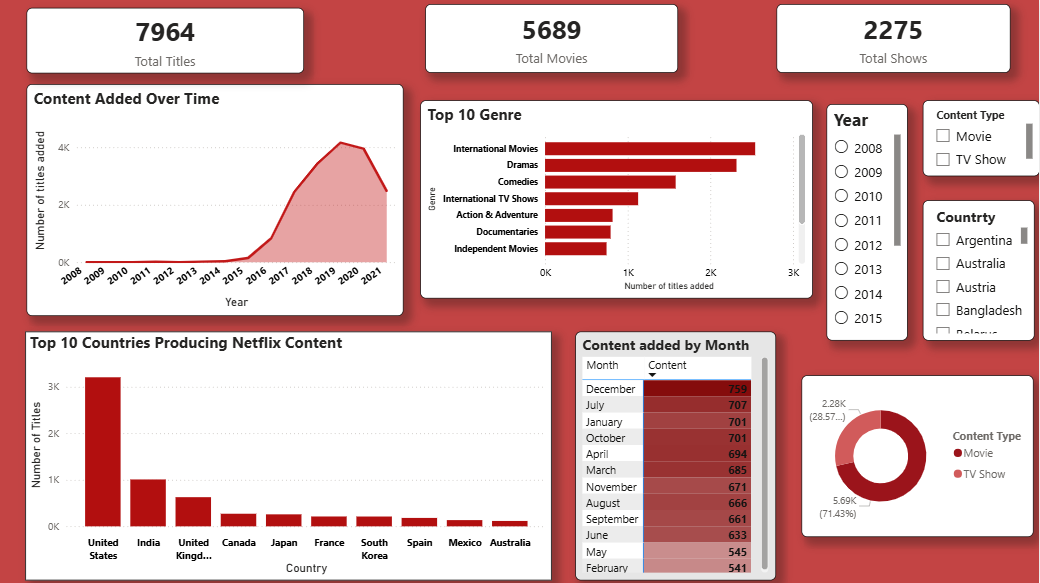

The page's visual inventory and layout, read from the dashboard file:
{"tool":"powerbi","page":{"name":"Page 1","canvas":[1280,720],"ordinal":0},"visuals":[{"type":"card","fields":{"Values":["netflix_titles.Total Shows"]},"box":[956.4,6.9,288.2,85.1],"z":0},{"type":"card","fields":{"Values":["netflix_titles.Total Movies"]},"box":[524.2,6.9,311.5,85.1],"z":1000},{"type":"stackedAreaChart","title":"Content Added Over Time","fields":{"Category":["netflix_titles.CustomYear Added"],"Y":["CountNonNull(netflix_titles.show_id)"]},"box":[34.3,104.3,463.8,285.4],"z":2000},{"type":"clusteredColumnChart","title":"Top 10 Countries Producing Netflix Content","fields":{"Category":["netflix_titles.country.1"],"Y":["Count(netflix_titles.show_id)"]},"box":[32.9,408.9,647.7,306],"z":3000},{"type":"donutChart","title":"Movies vs TV Shows","fields":{"Y":["Count(netflix_titles.show_id)"],"Category":["netflix_titles.type"]},"box":[988,462.4,285.4,199],"z":4000},{"type":"pivotTable","title":"Content added by Month","fields":{"Rows":["netflix_titles.Month"],"Values":["Count(netflix_titles.show_id)"]},"box":[709.4,408.9,247,306],"z":5000},{"type":"barChart","title":"Top 10 Genre","fields":{"Category":["netflix_titles.listed_in"],"Y":["Count(netflix_titles.show_id)"]},"box":[518.7,124.9,483,244.3],"z":6000},{"type":"slicer","fields":{"Values":["netflix_titles.type"]},"box":[1136.2,124.9,144.1,93.3],"z":7000},{"type":"listSlicer","fields":{"Values":["netflix_titles.year"]},"box":[1018.2,129,100.2,290.9],"z":8000},{"type":"slicer","fields":{"Values":["netflix_titles.country.1"]},"box":[1136.2,247,137.2,172.9],"z":9000},{"type":"card","fields":{"Values":["netflix_titles.Total Titles"]},"box":[34.3,11,341.7,81],"z":10000}]}

Visuals, with their boxes in screenshot pixels (x1, y1, x2, y2), scaled from the page's 1280x720 canvas onto the 1040x583 screenshot:
card - netflix_titles.Total Shows: {"left": 777, "top": 6, "right": 1011, "bottom": 74}
card - netflix_titles.Total Movies: {"left": 426, "top": 6, "right": 679, "bottom": 74}
"Content Added Over Time" stackedAreaChart: {"left": 28, "top": 84, "right": 405, "bottom": 316}
"Top 10 Countries Producing Netflix Content" clusteredColumnChart: {"left": 27, "top": 331, "right": 553, "bottom": 579}
"Movies vs TV Shows" donutChart: {"left": 803, "top": 374, "right": 1035, "bottom": 536}
"Content added by Month" pivotTable: {"left": 576, "top": 331, "right": 777, "bottom": 579}
"Top 10 Genre" barChart: {"left": 421, "top": 101, "right": 814, "bottom": 299}
slicer - netflix_titles.type: {"left": 923, "top": 101, "right": 1039, "bottom": 177}
listSlicer - netflix_titles.year: {"left": 827, "top": 104, "right": 909, "bottom": 340}
slicer - netflix_titles.country.1: {"left": 923, "top": 200, "right": 1035, "bottom": 340}
card - netflix_titles.Total Titles: {"left": 28, "top": 9, "right": 306, "bottom": 74}
